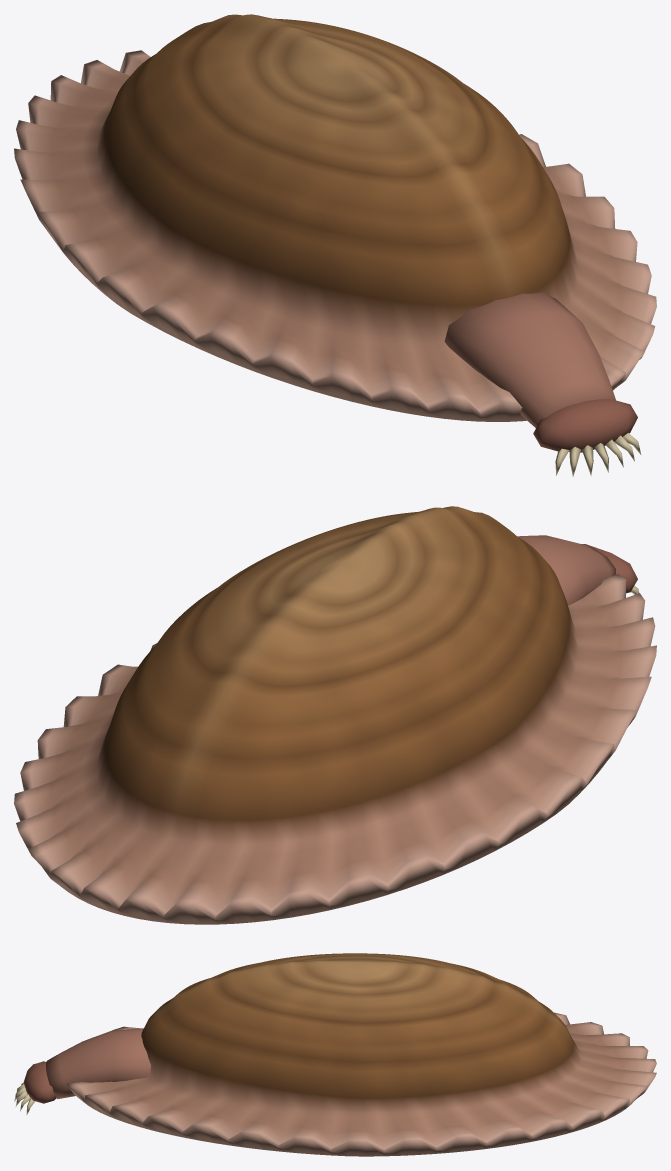
Rendered from Kimberella.fbx.
3 views of the same model, one above another, from view 1: azimuth 30°, elevation 25°; view 2: azimuth 150°, elevation 25°; view 3: azimuth 270°, elevation 25° (orthographic). The views are drawn at different scales.
Parts seen in each view (by area): view 1: Kimberella; view 2: Kimberella; view 3: Kimberella.
Part boxes in pixels (x1=…): Kimberella: x1=14, y1=14, x2=656, y2=476; Kimberella: x1=14, y1=506, x2=656, y2=924; Kimberella: x1=14, y1=953, x2=656, y2=1156.
Size of the model in its own units: 0.7261 by 0.3243 by 1.34.
